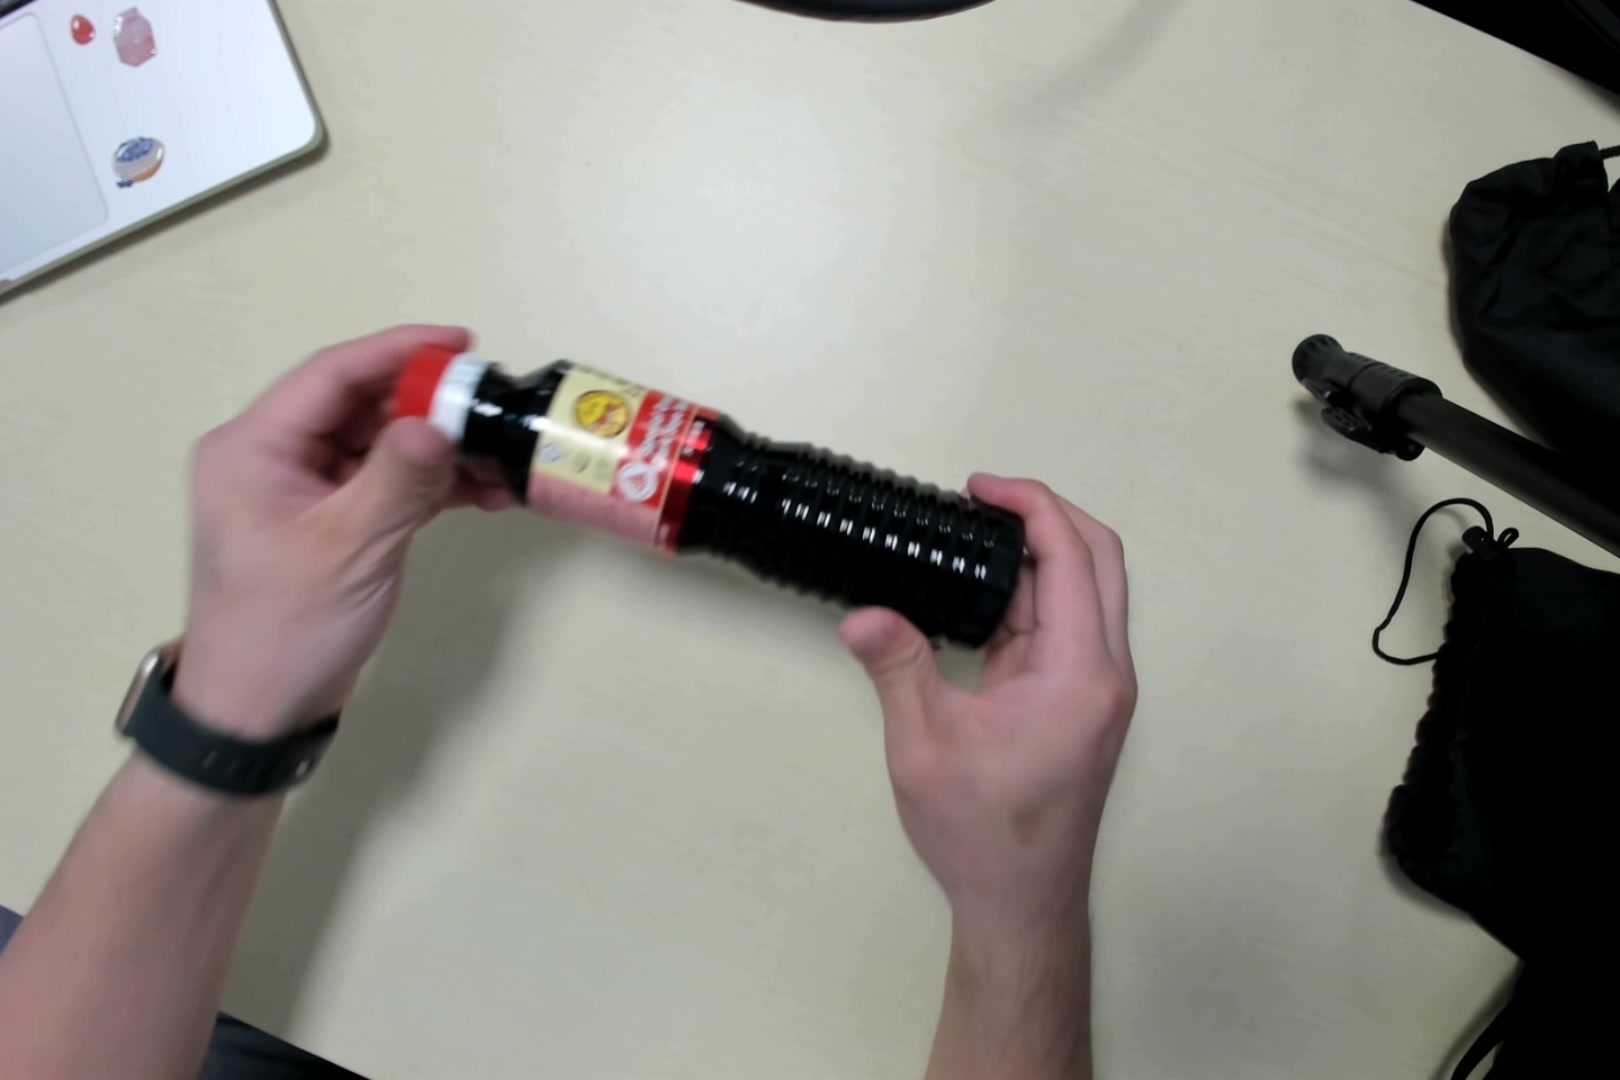DarkSoySauce_300-399g_Halal_NonHealthy: (385, 347, 1022, 663)
